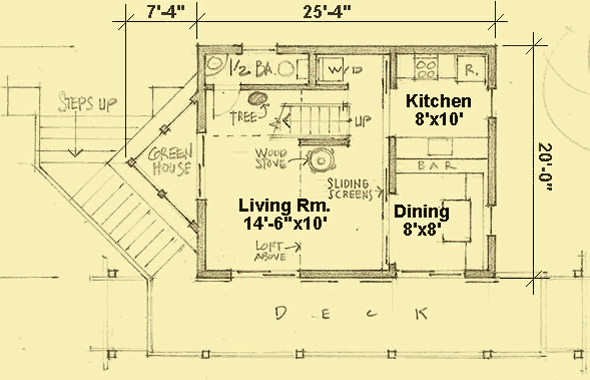kitchen has a cooking range and sink: (395, 53, 491, 161)
